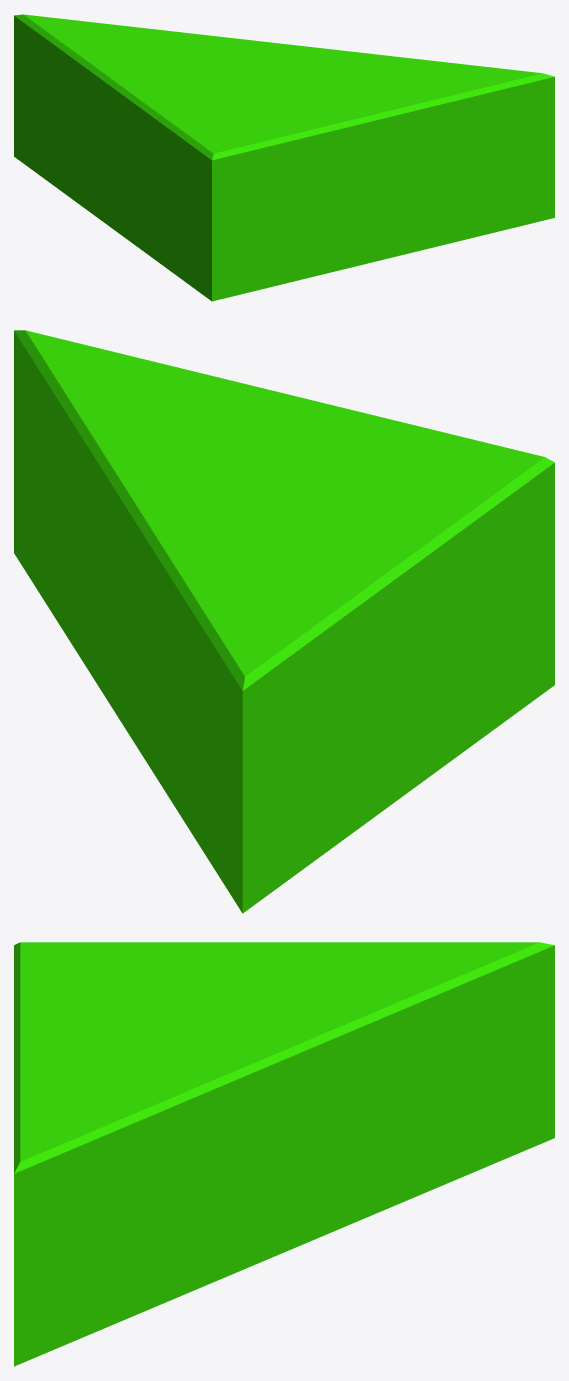
The model's file is triangle_5x2.fbx.
3 views of the same model, one above another, from view 1: azimuth 30°, elevation 25°; view 2: azimuth 150°, elevation 25°; view 3: azimuth 270°, elevation 25° (orthographic). The views are drawn at different scales.
Visible parts, largest first — view 1: triangle_5x2; view 2: triangle_5x2; view 3: triangle_5x2.
Part boxes in pixels (<box>): triangle_5x2: <box>14,14,554,301</box>; triangle_5x2: <box>14,330,554,913</box>; triangle_5x2: <box>14,942,554,1366</box>.
Bounding box in the file's own units: 524 × 212 × 524.
